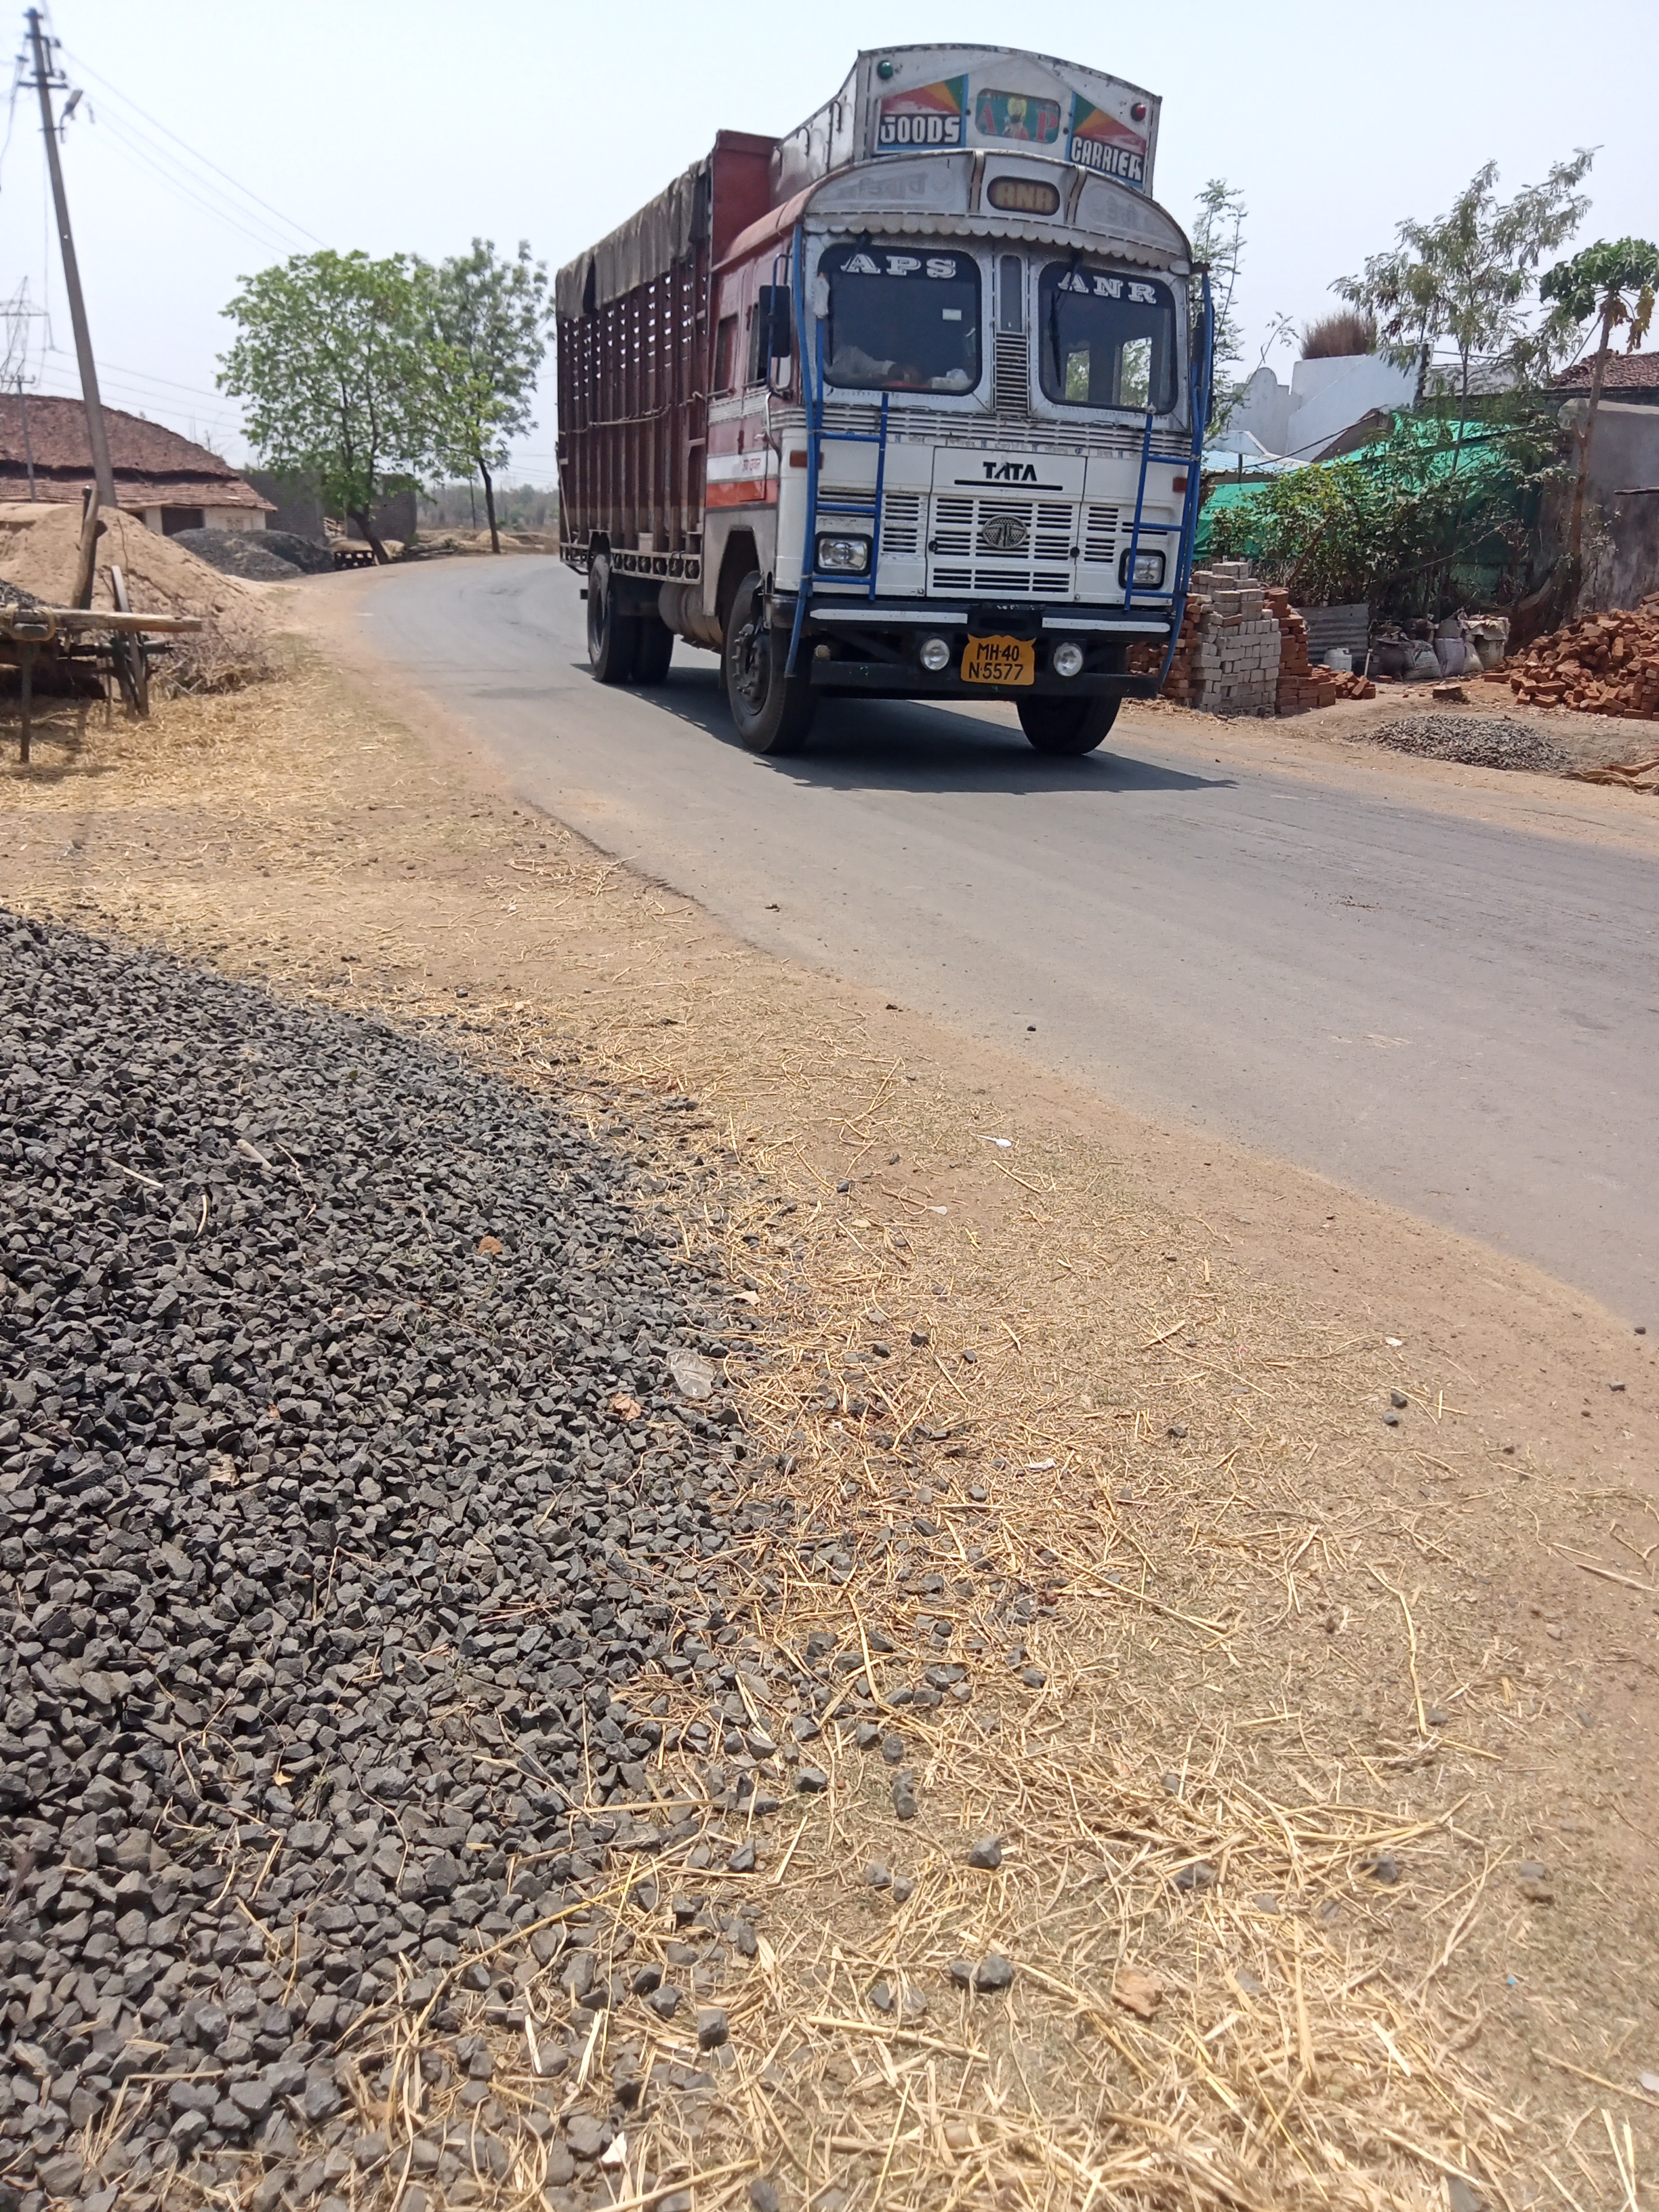truck: (551, 37, 1220, 761)
